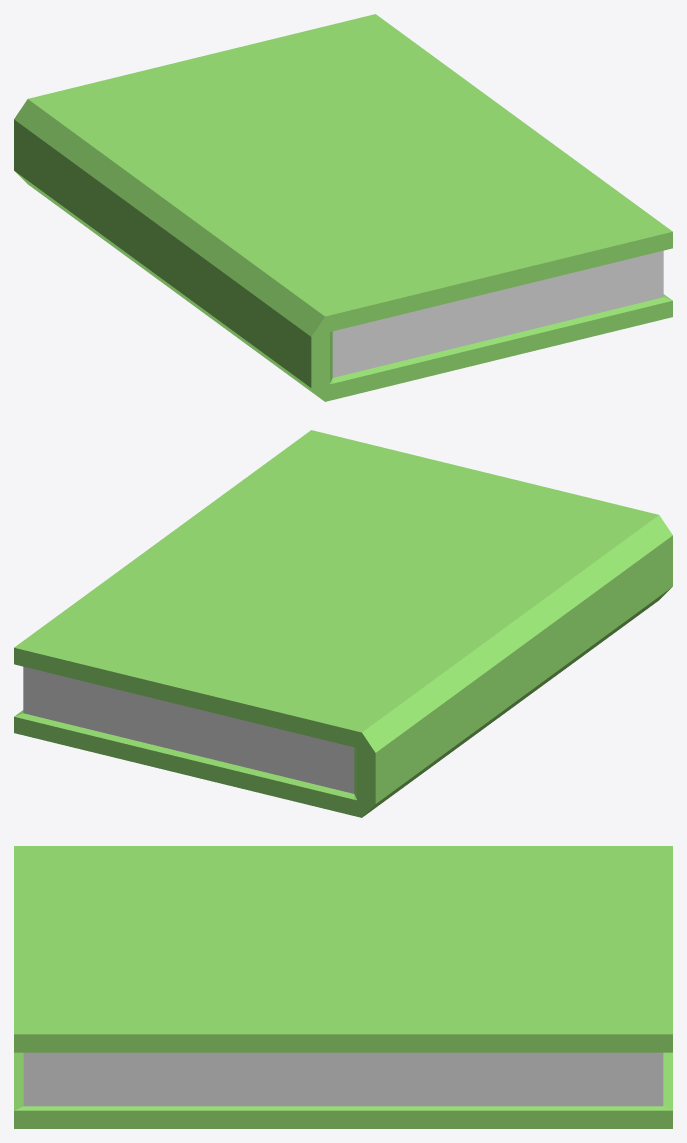
Rendered from Book.fbx.
3 views of the same model, one above another, from view 1: azimuth 30°, elevation 25°; view 2: azimuth 150°, elevation 25°; view 3: azimuth 270°, elevation 25° (orthographic). The views are drawn at different scales.
Parts seen in each view (by area): view 1: Books.002_Plane.003; view 2: Books.002_Plane.003; view 3: Books.002_Plane.003.
Part boxes in pixels (box(x1,y1,x2,y2)): Books.002_Plane.003: box(14, 14, 672, 401); Books.002_Plane.003: box(14, 430, 672, 817); Books.002_Plane.003: box(14, 846, 672, 1128).
Bounding box in the file's own units: 36.97 × 8.34 × 52.65.
